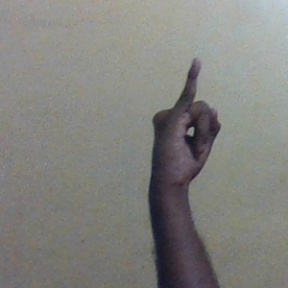I: (149, 56, 223, 183)
